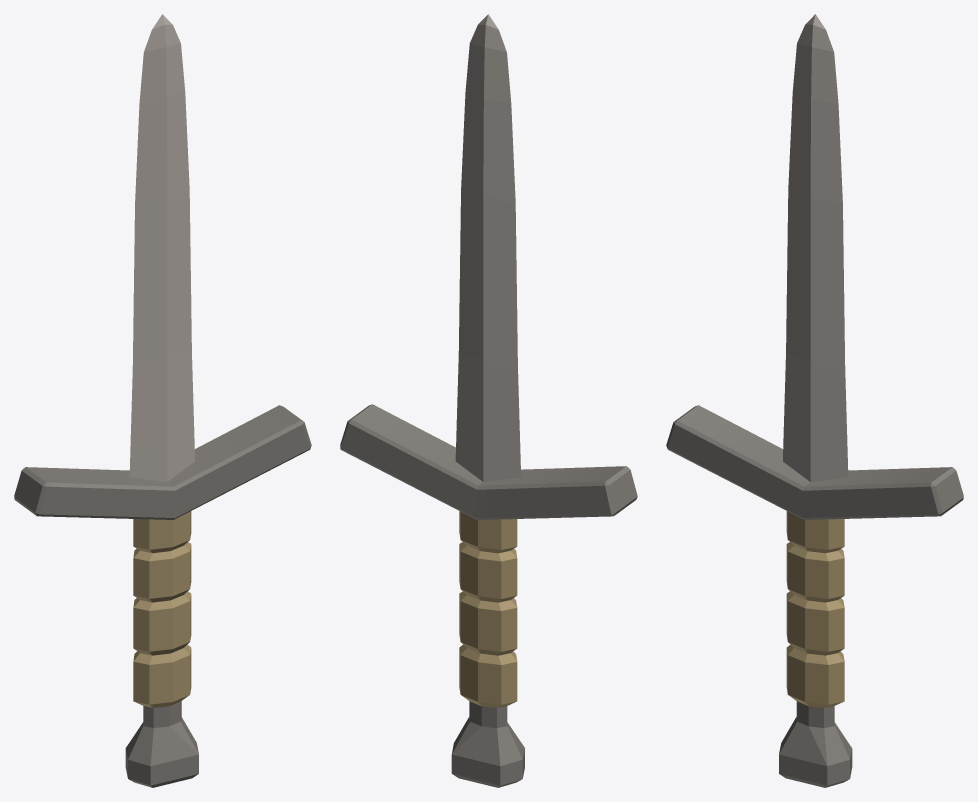
Rendered from SM_pwe_medieval_dagger_02.fbx.
The picture shows the model from 3 angles, left to right: view 1: azimuth 30°, elevation 25°; view 2: azimuth 150°, elevation 25°; view 3: azimuth 330°, elevation 25°; orthographic projection.
Parts seen in each view (by area): view 1: SM_pwe_medieval_dagger_02; view 2: SM_pwe_medieval_dagger_02; view 3: SM_pwe_medieval_dagger_02.
Part boxes in pixels (box(x1,y1,x2,y2)): SM_pwe_medieval_dagger_02: box(14, 14, 311, 787); SM_pwe_medieval_dagger_02: box(340, 14, 637, 787); SM_pwe_medieval_dagger_02: box(666, 14, 963, 787).
Size of the model in its own units: 23.63 by 62.23 by 3.76.
